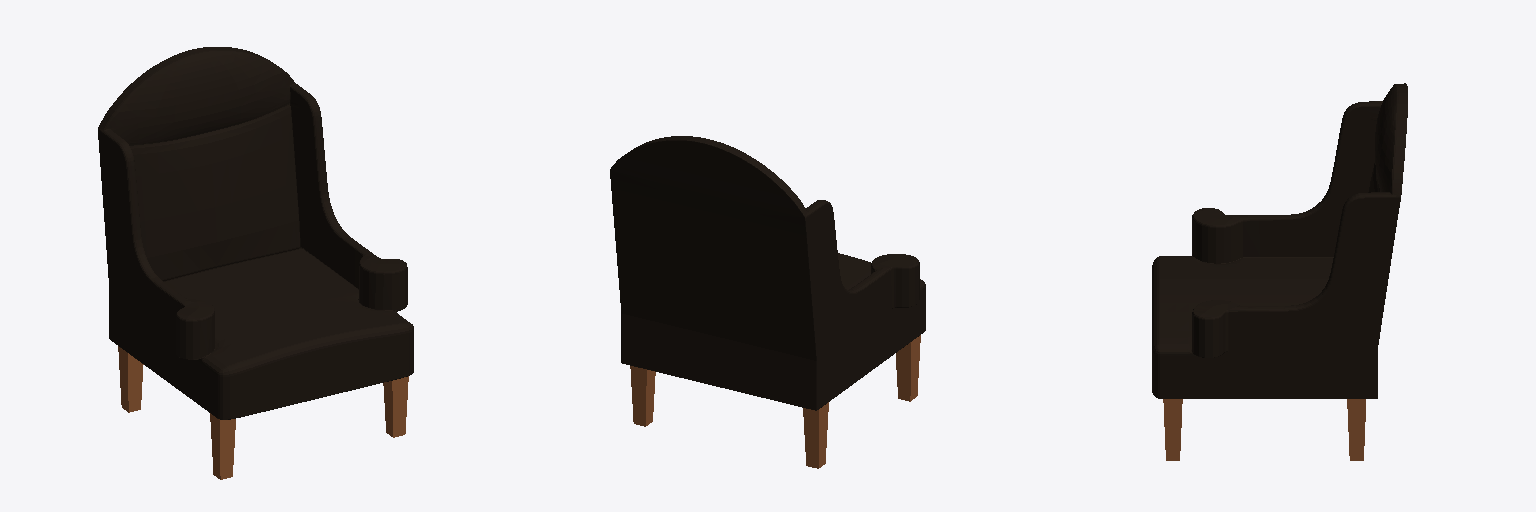
The model's file is sofa7.obj.
3 views of the same model, side by side, from view 1: azimuth 30°, elevation 25°; view 2: azimuth 150°, elevation 25°; view 3: azimuth 270°, elevation 25° (orthographic).
Size of the model in its own units: 37.18 by 49.87 by 36.27.